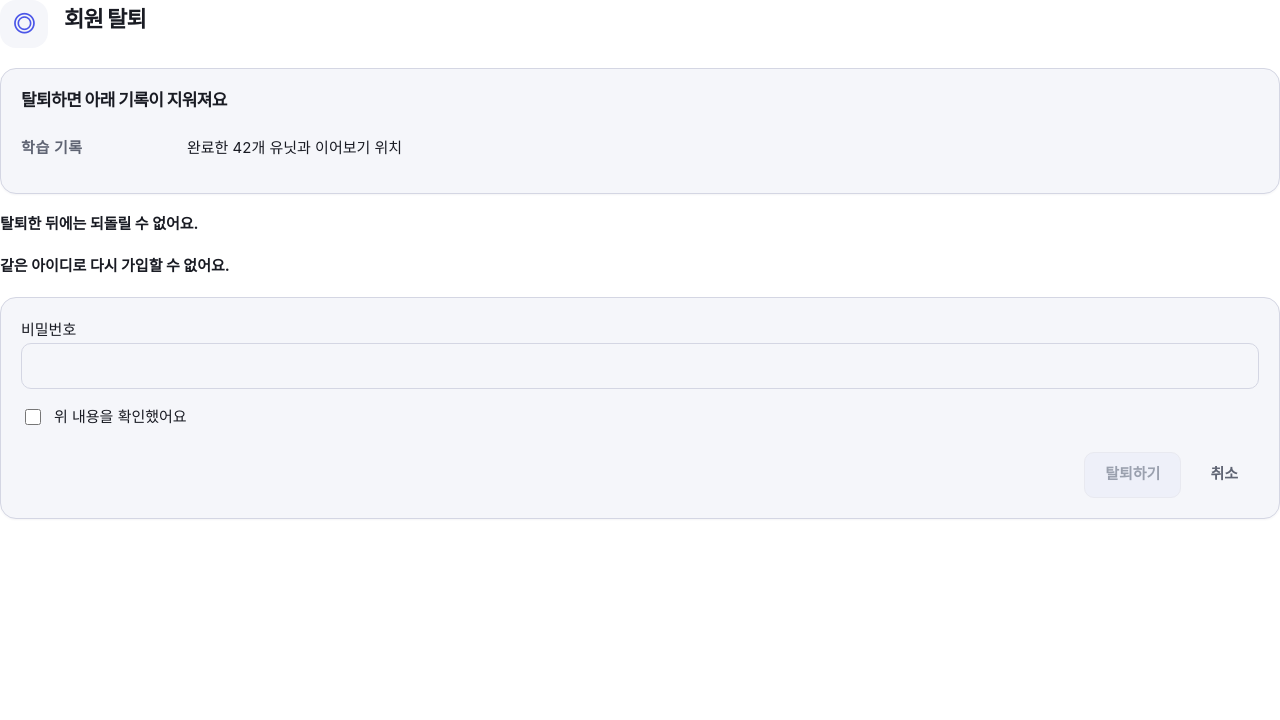
지울 것이 없을 때의 확인 모달 (B-L2) › 한쪽만 0이면 그쪽만 빠진다
The width and height of the screenshot is (1280, 720).
Step 1. Type "1234" into the password field labelled "비밀번호" → (640, 366), box [21,343,1259,389]
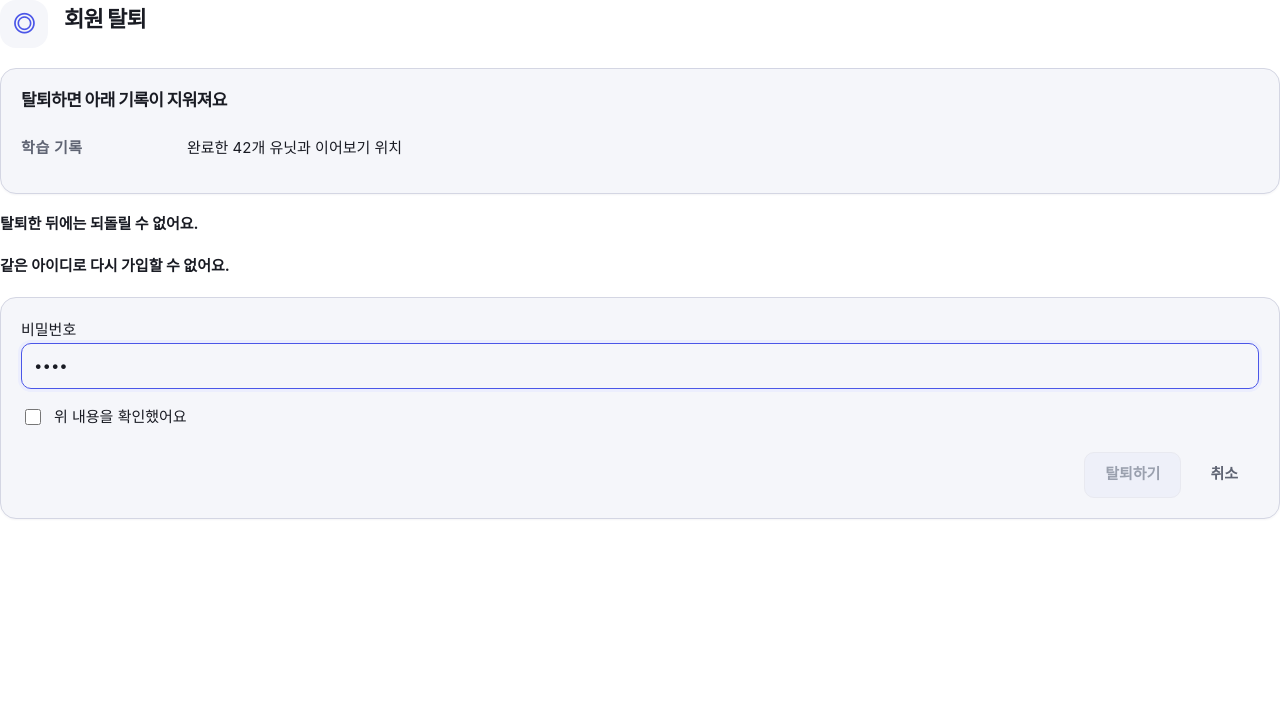
Step 2. Click the checkbox labelled "위 내용을 확인했어요" → (33, 417), box [25,409,41,425]
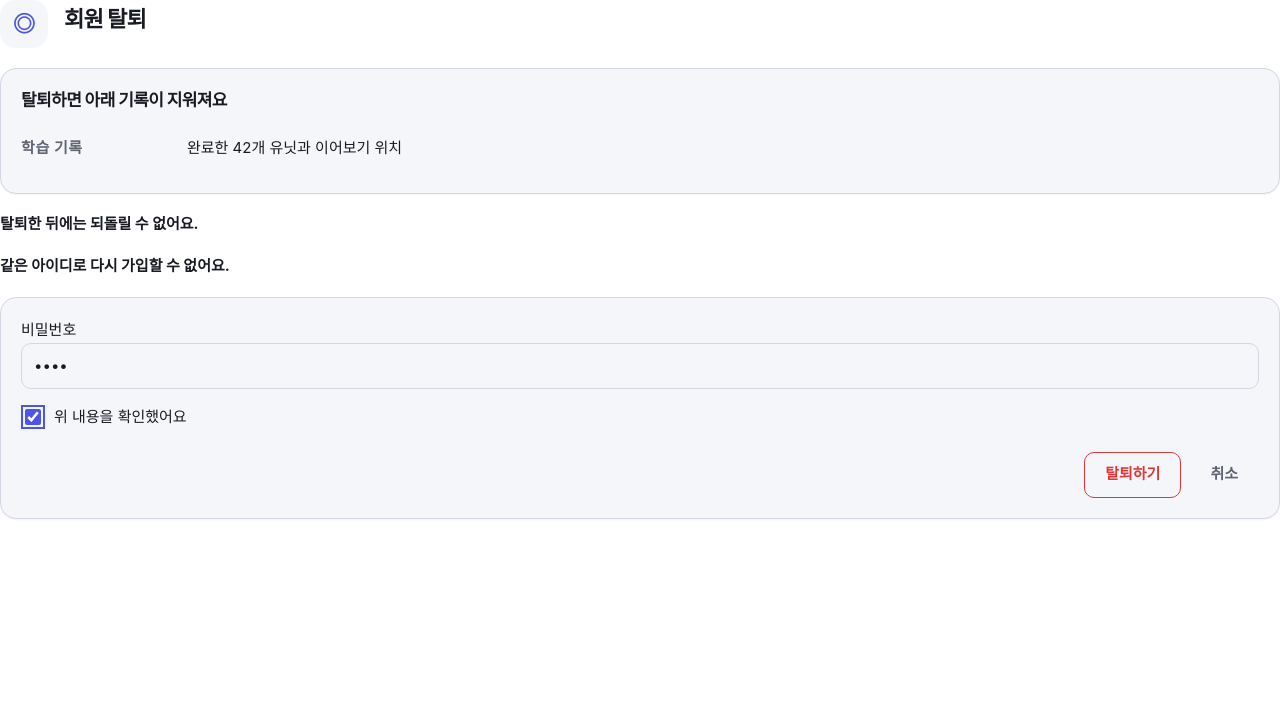
Step 3. Click the button "탈퇴하기" → (1133, 475), box [1084,452,1181,498]
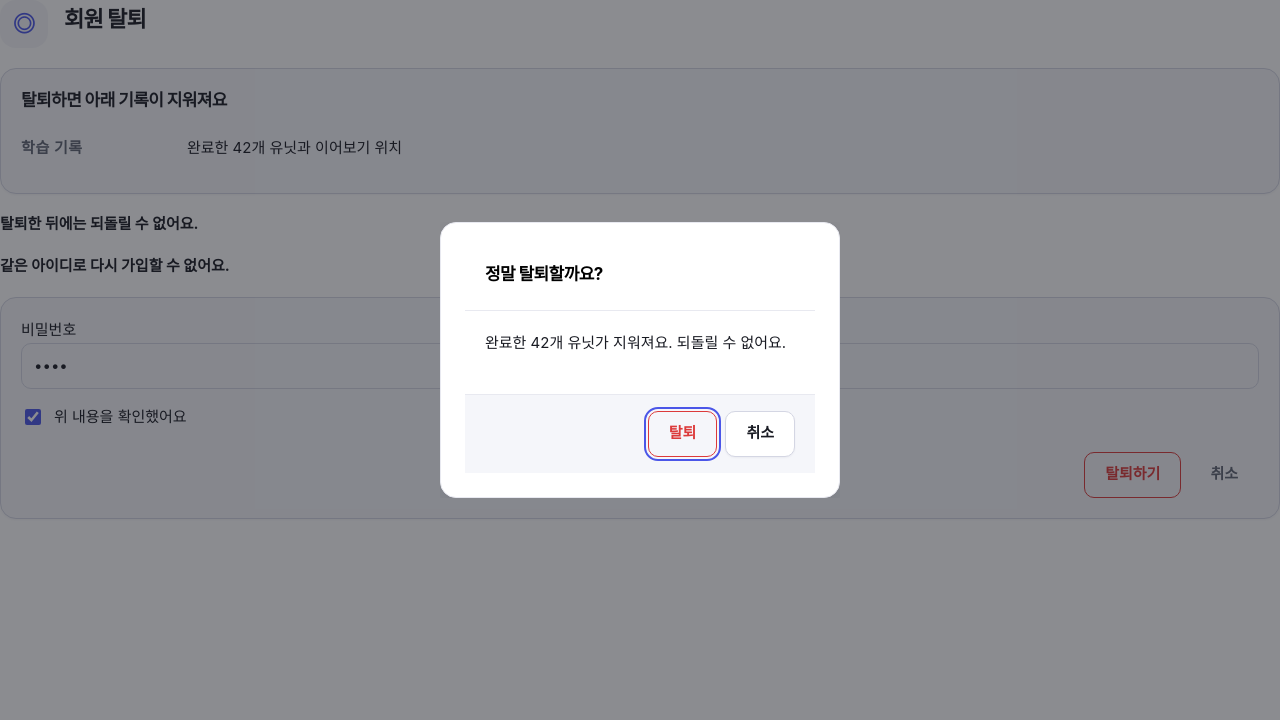
Expected: the heading "정말 탈퇴할까요?" is shown, [485,263,603,286]
Expected: the text "완료한 42개 유닛" is shown, [485,333,786,352]
